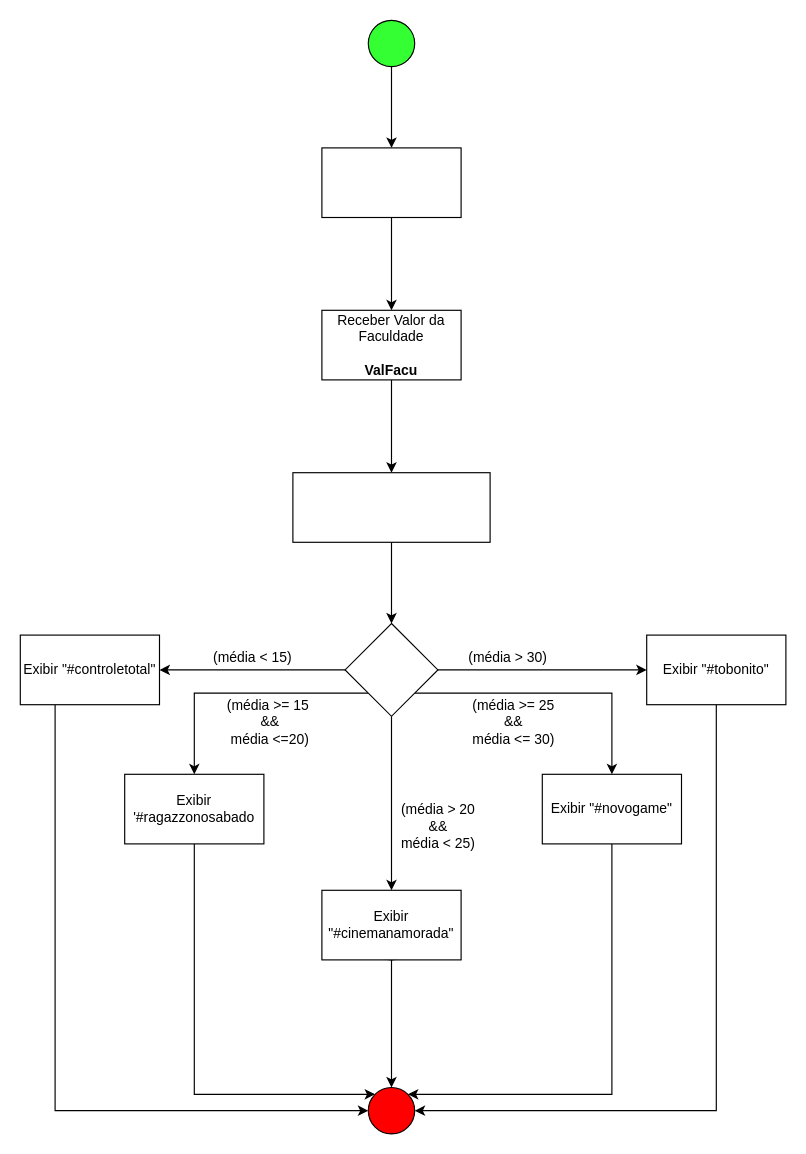
The diagram is 806 pixels wide and 1154 high, and some of its shapes have lost their labels. Each missing label, with the centre of its shape:
"Calcular média Salario = (Salario*30) média = (Salário - ValFacu)" goes at (x=391, y=507).
"Receber Salário Salario" goes at (x=391, y=182).
